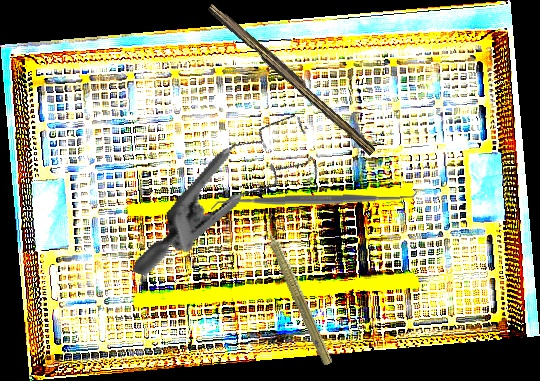Handpiece: (255, 211, 339, 368)
Scalpel Handle: (204, 0, 381, 156)
Spatula Surgical: (210, 187, 418, 213)
Speculum: (132, 81, 334, 320)
